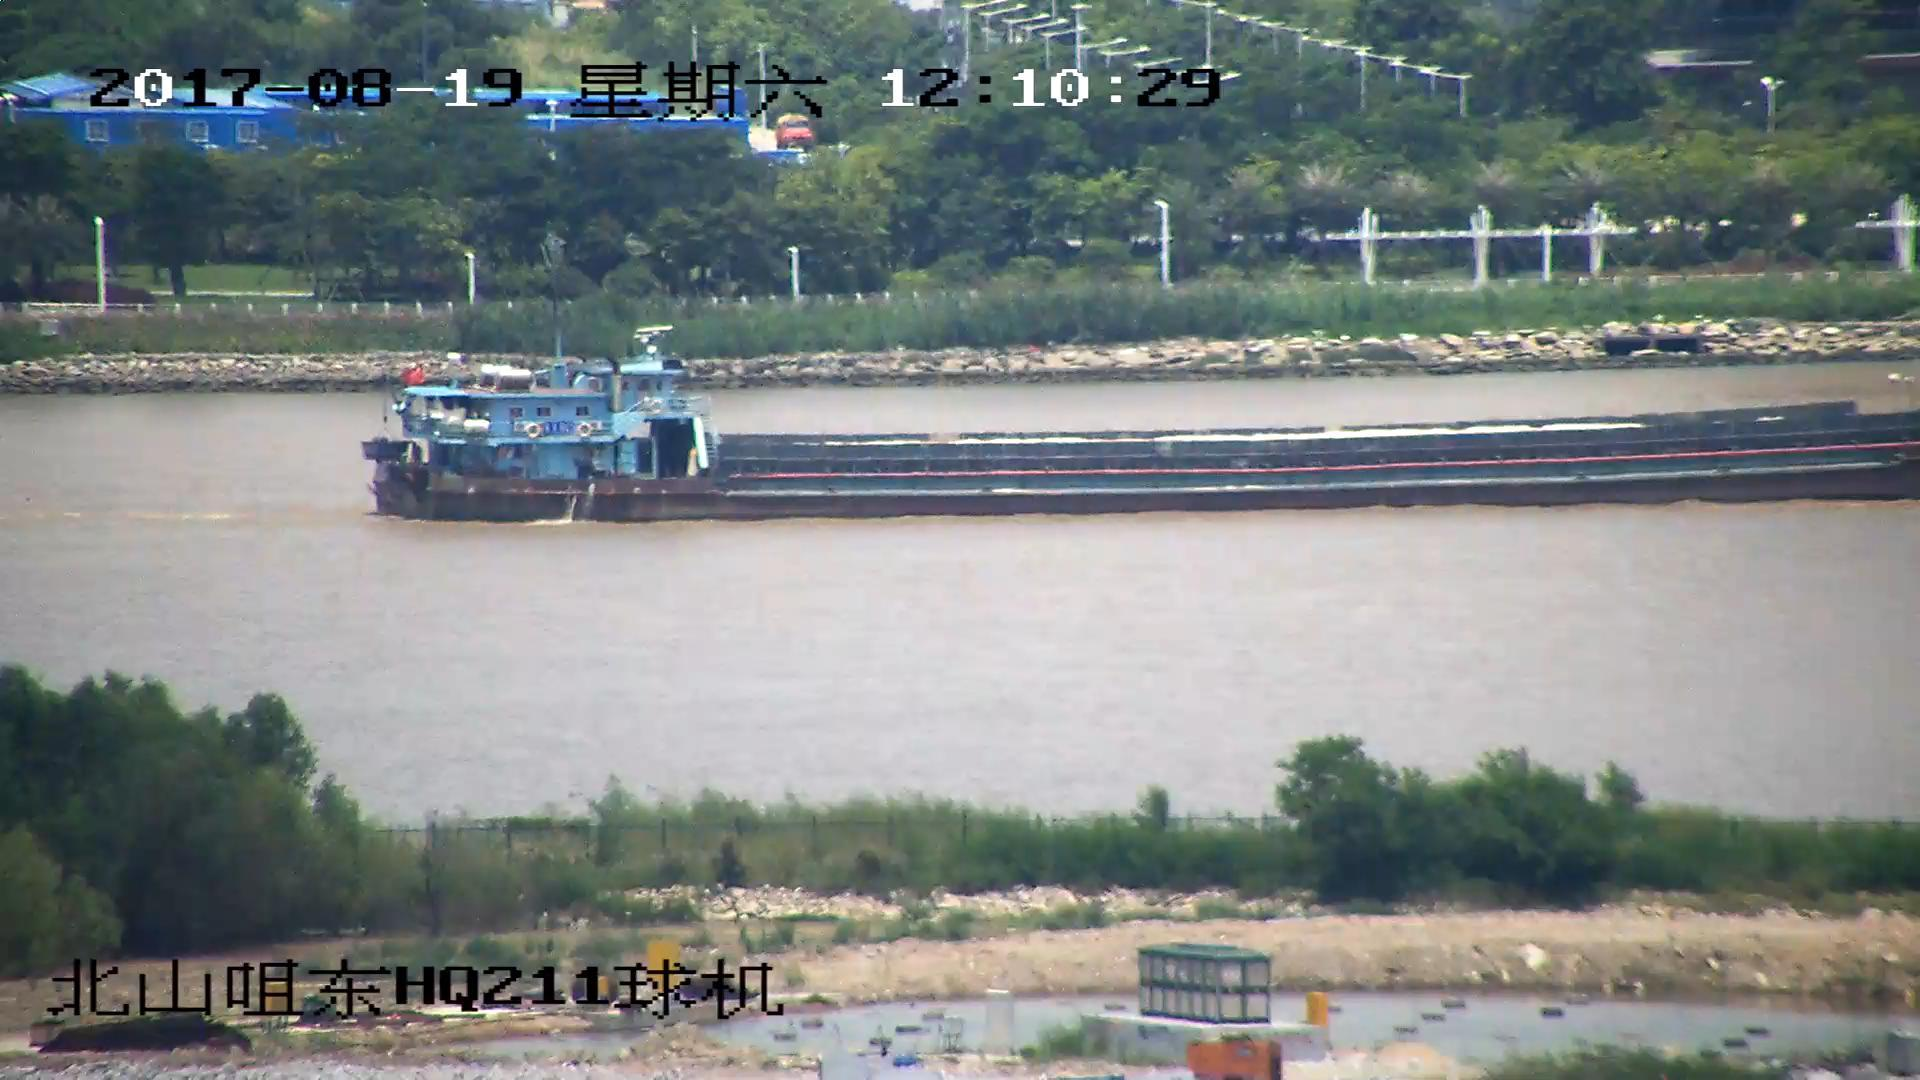Ship: (357, 323, 1920, 521)
